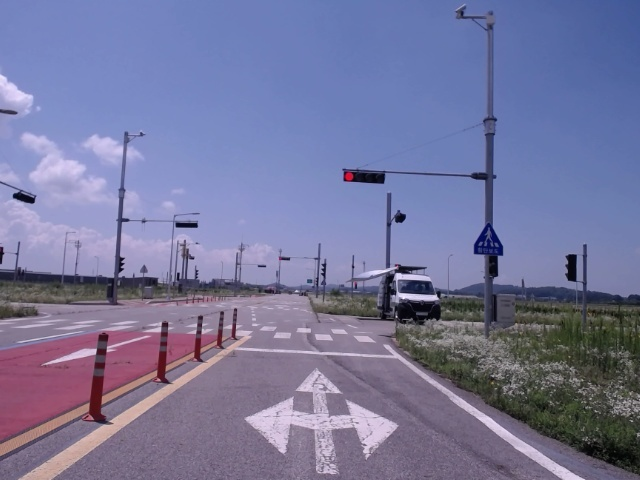red_4: (343, 172, 384, 184)
